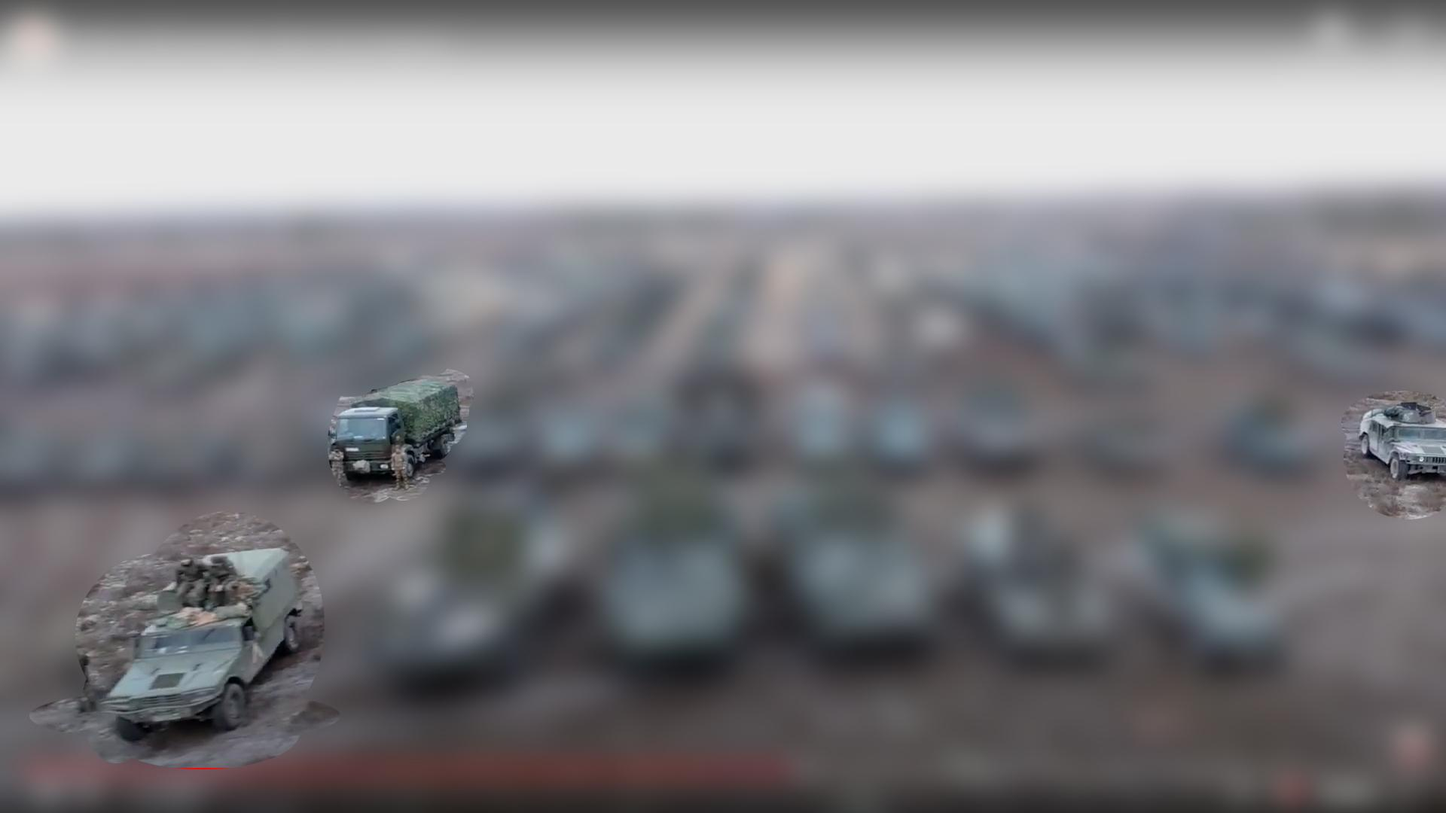armored_car: (101, 547, 306, 731), (1354, 398, 1446, 484)
truck: (329, 375, 462, 484)
